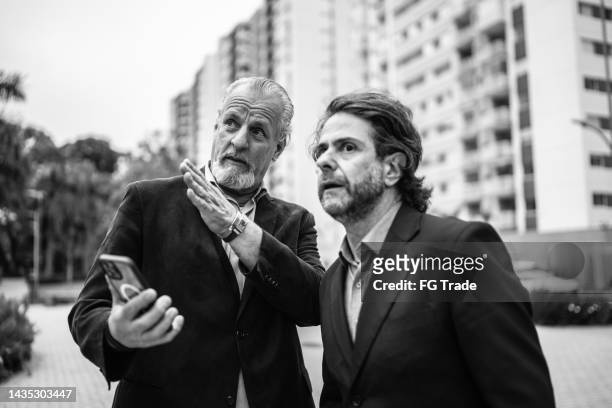pointing_gesture: (176, 157, 248, 243)
